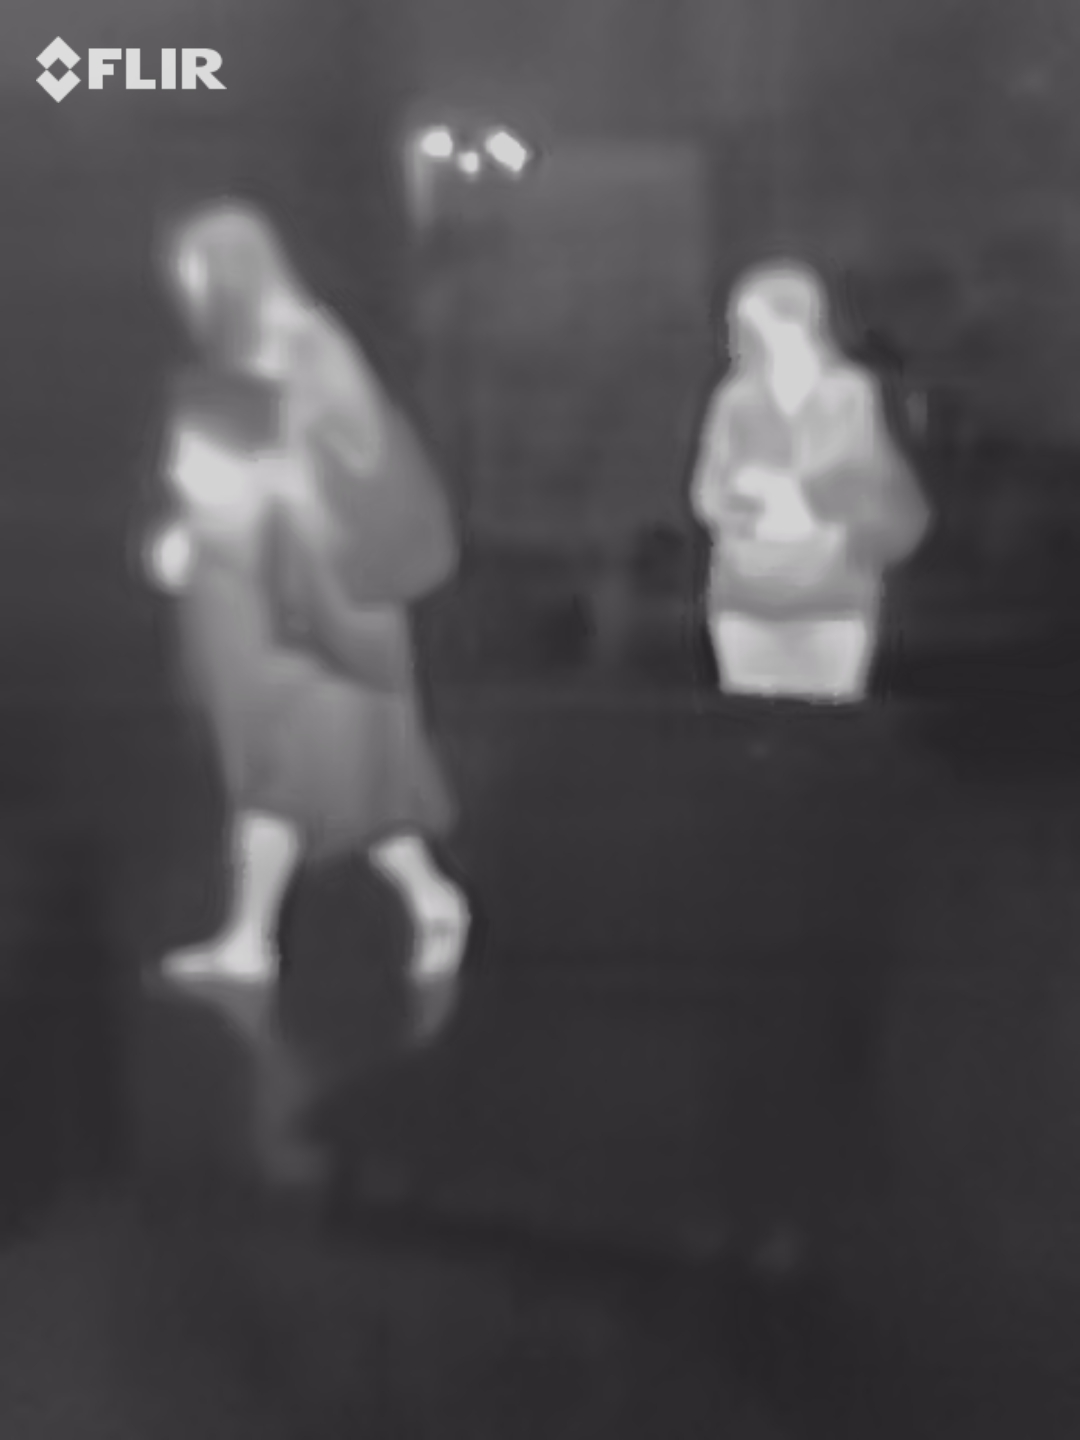head: (724, 257, 830, 374)
